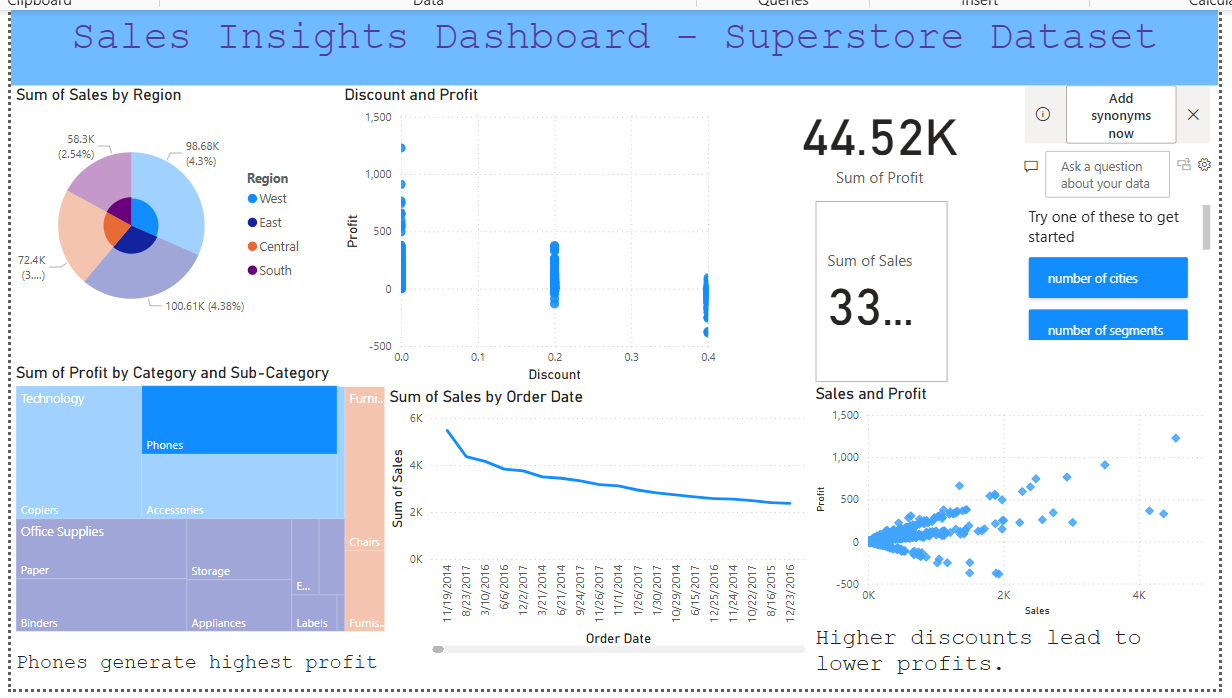

The dashboard page shown, as its layout file describes it:
{"tool":"powerbi","page":{"name":"Report","canvas":[1280,720],"ordinal":0},"visuals":[{"type":"pieChart","fields":{"Category":["Superstore.Region"],"Y":["Sum(Superstore.Sales)"]},"box":[0,80,320,278.3],"z":0},{"type":"scatterChart","fields":{"X":["Superstore.Sales"],"Y":["Superstore.Profit"]},"box":[847.8,396.1,432.6,251.3],"z":1000},{"type":"treemap","fields":{"Details":["Superstore.Sub-Category"],"Values":["Sum(Superstore.Profit)"],"Group":["Superstore.Category"]},"box":[0,373.3,410,290],"z":2000},{"type":"lineChart","fields":{"Category":["Superstore.Order Date"],"Y":["Sum(Superstore.Sales)"]},"box":[396.1,399.2,451.7,287.9],"z":3000},{"type":"scatterChart","fields":{"X":["Superstore.Discount"],"Y":["Superstore.Profit"]},"box":[348.3,79.5,404,319.7],"z":4000},{"type":"textbox","box":[0,675,410,45],"z":5000},{"type":"textbox","box":[848.3,646.7,431.7,73.3],"z":6000},{"type":"qnaVisual","box":[1065,66.7,215,291.7],"z":7000},{"type":"card","fields":{"Values":["Sum(Superstore.Profit)"]},"box":[785,80,270,118.3],"z":10000},{"type":"textbox","box":[0,0,1280,80],"z":11000},{"type":"cardVisual","fields":{"Data":["Sum(Superstore.Sales)"]},"box":[848,198,150,202],"z":11001}]}

Visuals, with their boxes in screenshot pixels (x1, y1, x2, y2):
pieChart - Superstore.Region x Sum(Superstore.Sales): x1=3 y1=82 x2=307 y2=347
scatterChart - Superstore.Sales x Superstore.Profit: x1=808 y1=382 x2=1219 y2=621
treemap - Superstore.Sub-Category x Sum(Superstore.Profit): x1=3 y1=361 x2=392 y2=636
lineChart - Superstore.Order Date x Sum(Superstore.Sales): x1=379 y1=385 x2=808 y2=659
scatterChart - Superstore.Discount x Superstore.Profit: x1=334 y1=82 x2=717 y2=385
textbox: x1=3 y1=647 x2=392 y2=690
textbox: x1=808 y1=620 x2=1218 y2=690
qnaVisual: x1=1014 y1=70 x2=1218 y2=347
card - Sum(Superstore.Profit): x1=748 y1=82 x2=1005 y2=195
textbox: x1=3 y1=6 x2=1218 y2=82
cardVisual - Sum(Superstore.Sales): x1=808 y1=194 x2=951 y2=386
